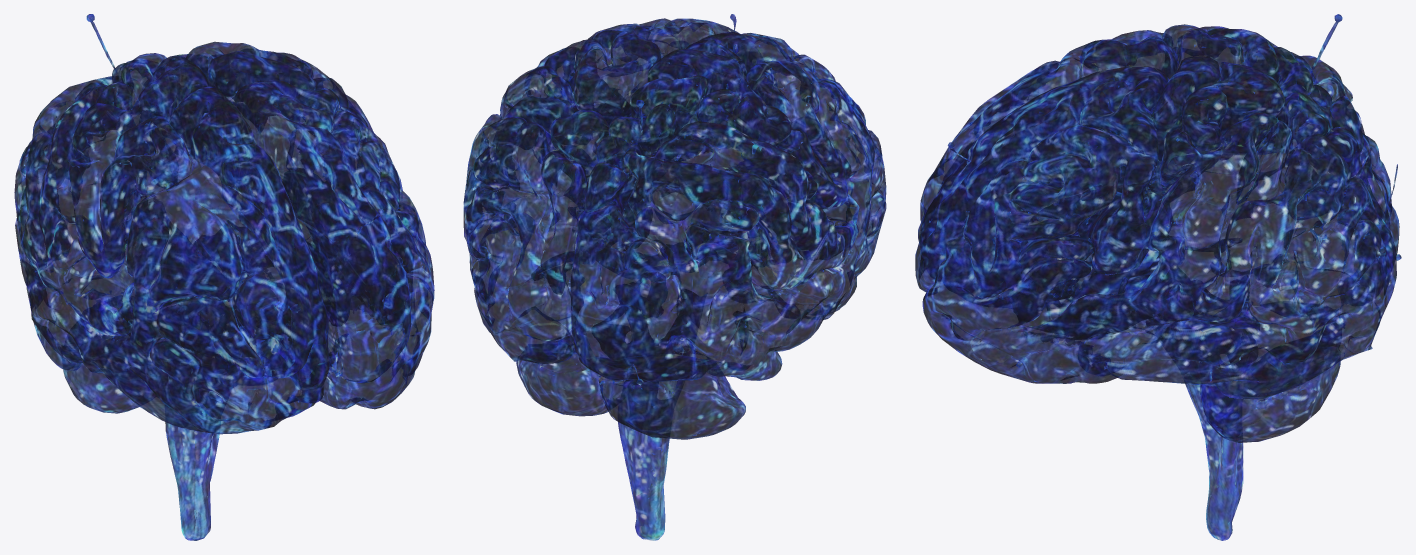
3 views of the same model, side by side, from view 1: azimuth 30°, elevation 25°; view 2: azimuth 150°, elevation 25°; view 3: azimuth 270°, elevation 25° (orthographic).
Visible parts, largest first — view 1: Mesh_0; view 2: Mesh_0; view 3: Mesh_0.
Boxes of the visible parts, x1,y1,x2,y2 form: Mesh_0: (14, 14, 434, 540); Mesh_0: (463, 14, 886, 540); Mesh_0: (915, 14, 1401, 540).
Bounding box in the file's own units: 1.34 × 1.89 × 1.66.
Materials: 1 (1 with a texture image).
